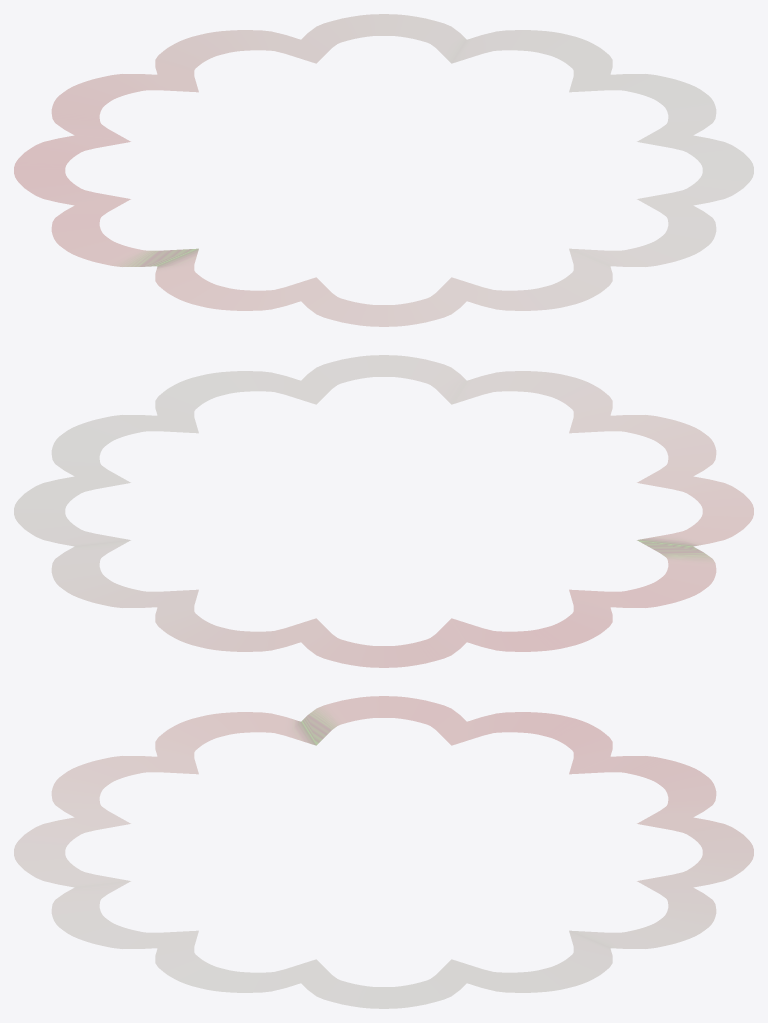
File: wave.fbx
3 views of the same model, one above another, from view 1: azimuth 30°, elevation 25°; view 2: azimuth 150°, elevation 25°; view 3: azimuth 270°, elevation 25° (orthographic).
Parts seen in each view (by area): view 1: Object002; view 2: Object002; view 3: Object002.
Part boxes in pixels (box(x1,y1,x2,y2)): Object002: box(14, 14, 753, 326); Object002: box(14, 355, 753, 667); Object002: box(14, 696, 753, 1008).
Size of the model in its own units: 143 by 8.59e-06 by 143.
1 material, 1 textured.
